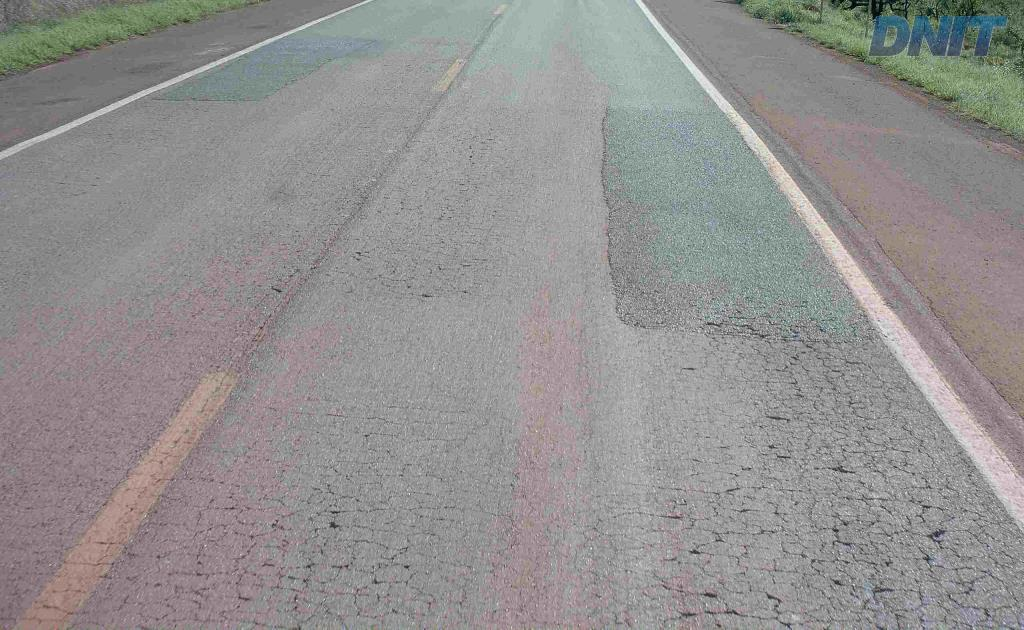crack: (699, 311, 826, 352)
